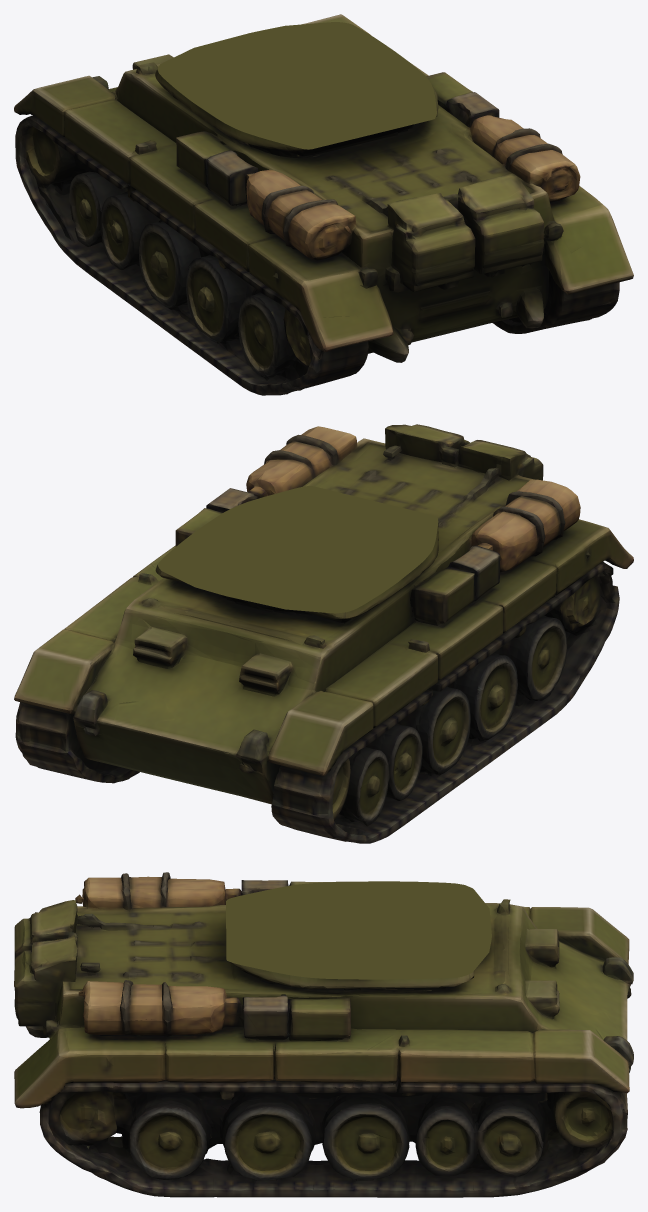
File: m4_sherman_hull.glb
3 renders of one model, top to bottom at view 1: azimuth 30°, elevation 25°; view 2: azimuth 150°, elevation 25°; view 3: azimuth 270°, elevation 25°, orthographic.
Parts seen in each view (by area): view 1: rear_stowage, hull, deck_closure; view 2: hull, rear_stowage, deck_closure; view 3: hull, rear_stowage, deck_closure.
Boxes of the visible parts, left/top/right/bottom form: rear_stowage: left=241, top=128, right=633, bottom=395; hull: left=14, top=14, right=523, bottom=386; deck_closure: left=157, top=22, right=436, bottom=149; hull: left=14, top=459, right=556, bottom=843; rear_stowage: left=264, top=424, right=633, bottom=713; deck_closure: left=158, top=486, right=438, bottom=613; hull: left=160, top=878, right=633, bottom=1197; rear_stowage: left=14, top=872, right=190, bottom=1197; deck_closure: left=226, top=881, right=491, bottom=979.
Bounding box in the file's own units: 0.4508 × 0.27 × 0.7729.
Materials: 2 (1 with a texture image).
